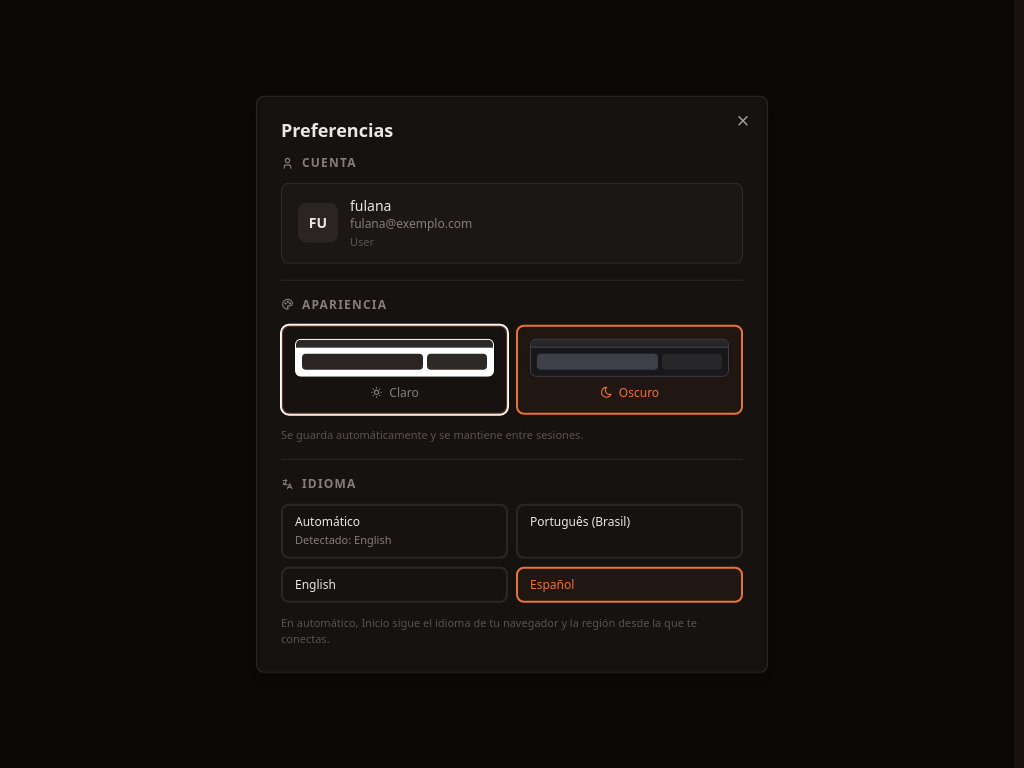
Scenario: Preferências — Idioma › Automático apaga o cookie e volta ao detectado
Expected: the heading "Preferencias" is shown, [281,118,393,142]
Click the button "Automático Detectado: English" at (394, 531), box [281,504,508,558]
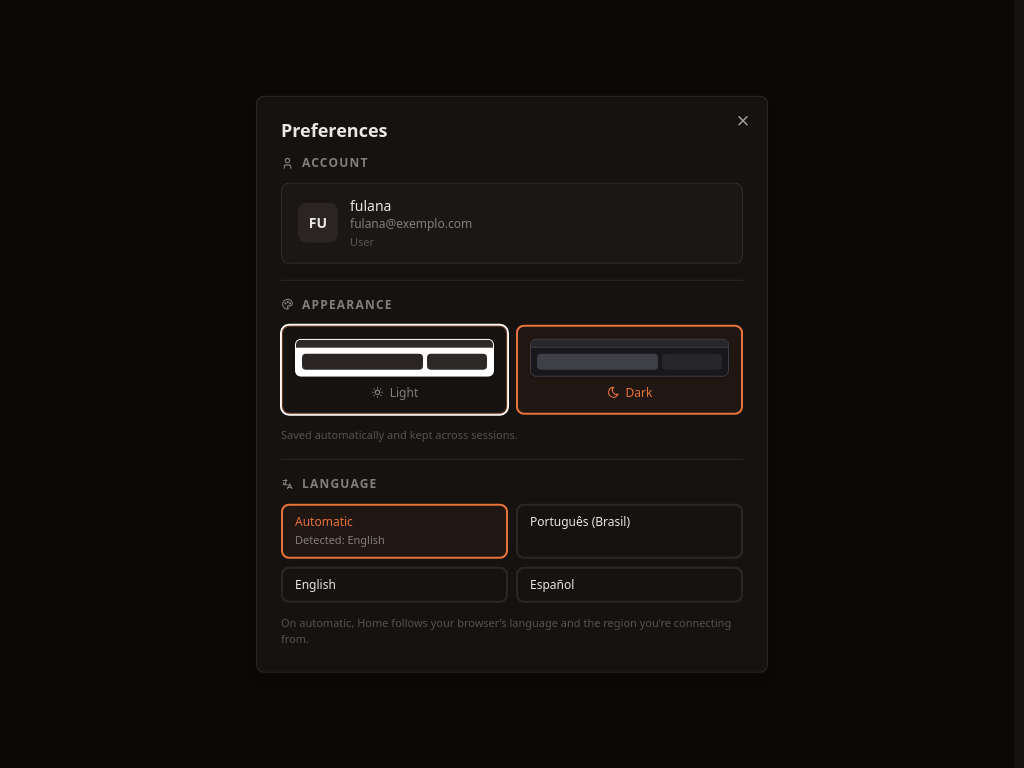
Result: the heading "Preferences" is shown at [281,118,388,142]
Result: the text "Detected: English" is shown at [295,532,385,548]
